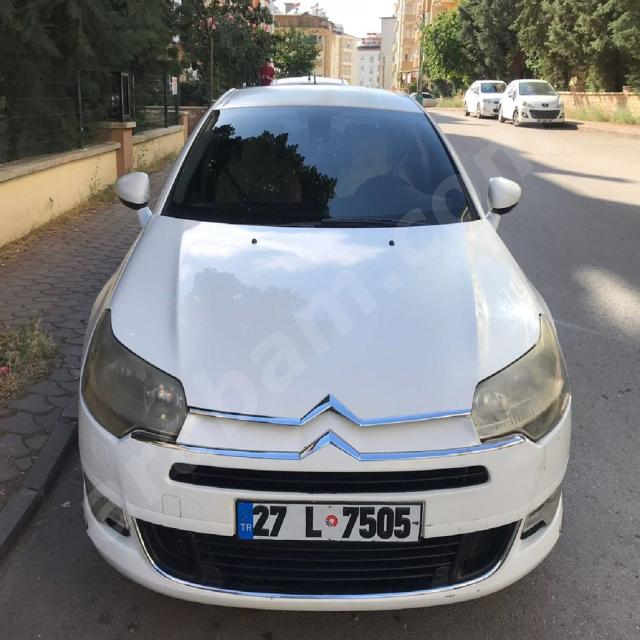license_plate: (235, 499, 424, 542)
